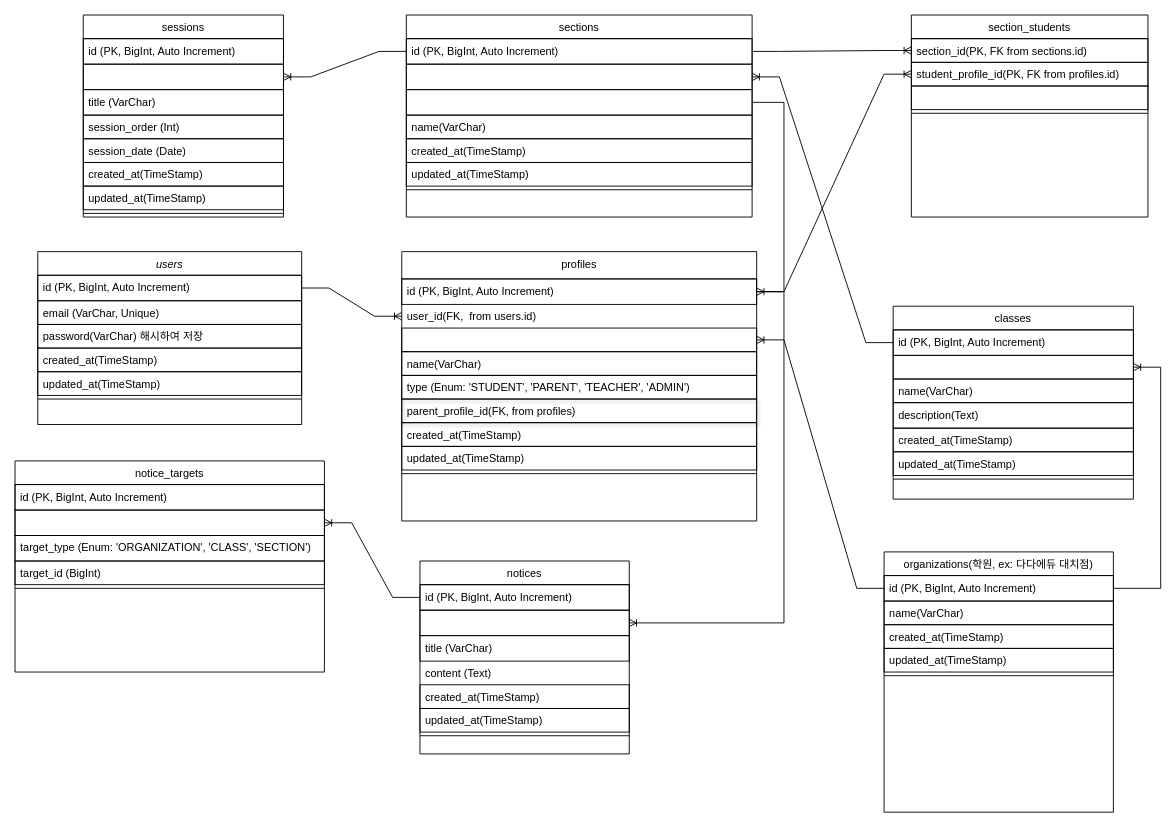
Image size: 1176x827. Some labels were removed from this diagram. The shapes that lost their labels are listed below. From the top down, each one's centre as x and y in pixels, then its label:
At [182,76]: "section_id (FK from sections.id)".
At [578,76]: "class_id(FK, from classes.id)".
At [578,102]: "teacher_profile_id(FK, from profiles.id)".
At [1029,97]: "registered_at(Timestamp)".
At [579,339]: "organization_id(FK, from organizations)".
At [1012,366]: "organization_id(FK, from organizations.id)".
At [169,522]: "notice_id (FK from notices.id)".
At [524,622]: "author_profile_id (FK from profiles.id)".
